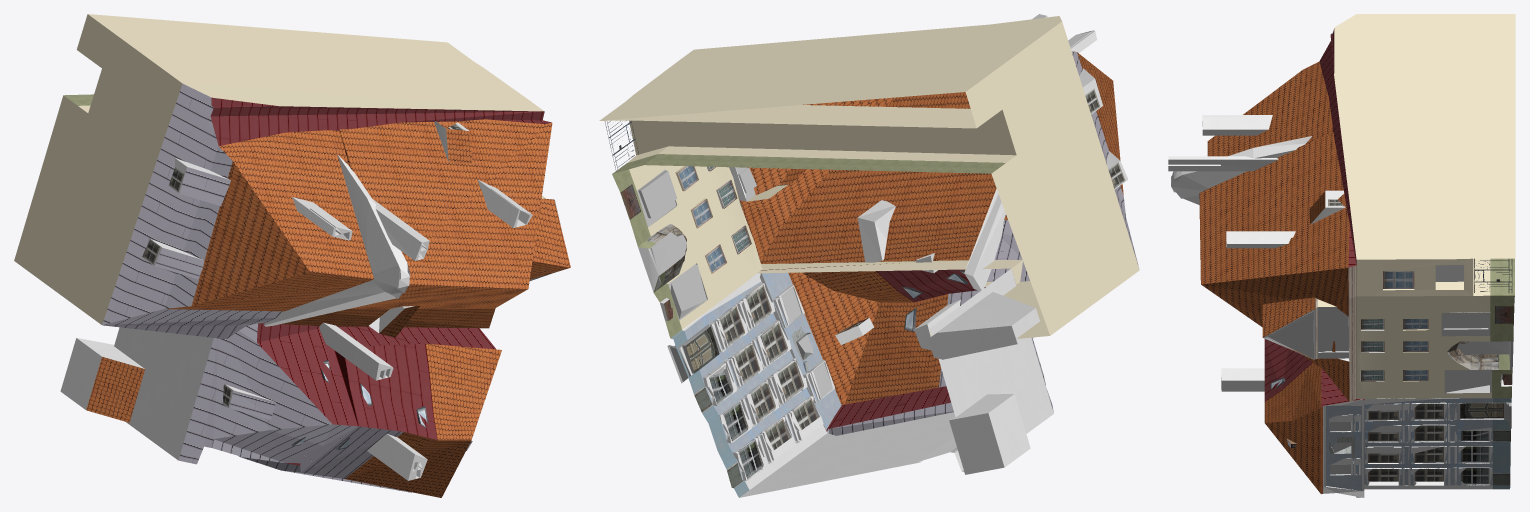
The model's file is Pikk_55-origo.obj.
3 views of the same model, side by side, from view 1: azimuth 30°, elevation 25°; view 2: azimuth 150°, elevation 25°; view 3: azimuth 270°, elevation 25° (orthographic). The views are drawn at different scales.
Visible parts, largest first — view 1: Pikk_55; view 2: Pikk_55; view 3: Pikk_55.
Boxes of the visible parts, bbox=[...] form: Pikk_55: bbox=[14, 14, 570, 497]; Pikk_55: bbox=[599, 14, 1139, 497]; Pikk_55: bbox=[1168, 14, 1515, 497].
Size of the model in its own units: 27.94 by 28 by 22.63.
